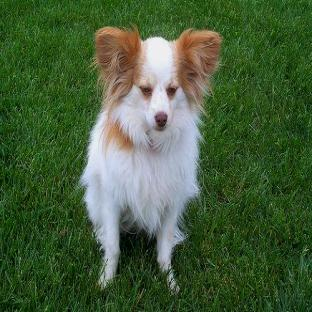Animal: (81, 26, 221, 291)
